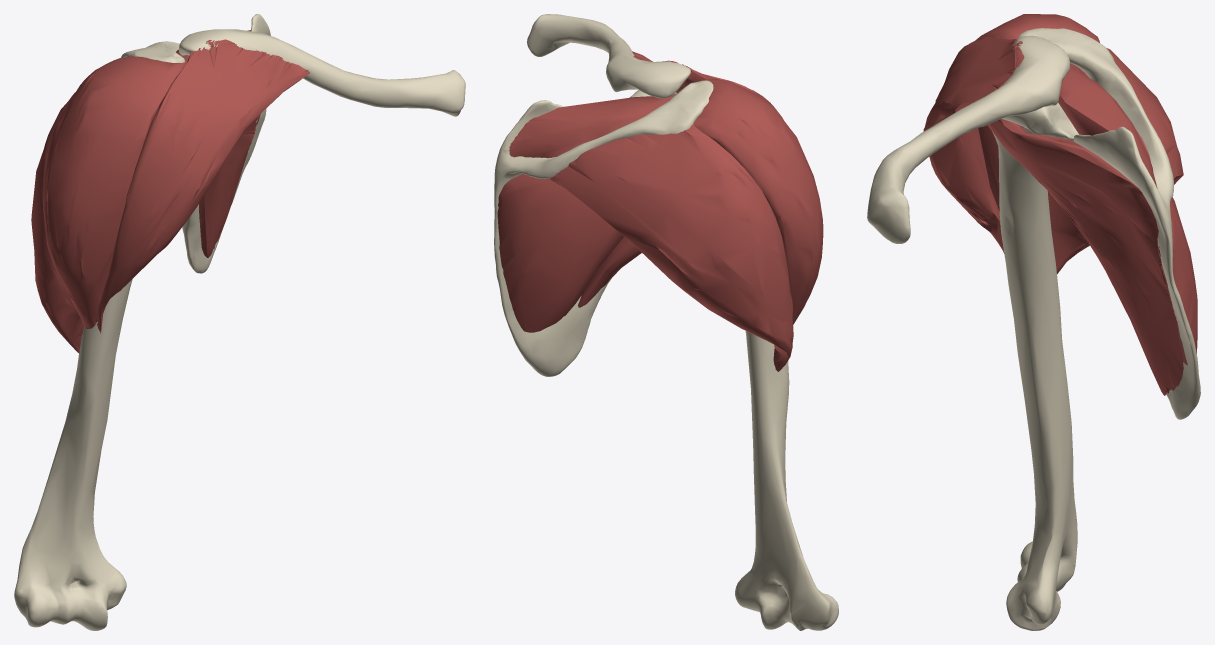
The model's file is shoulder-balanced.glb.
3 views of the same model, side by side, from view 1: azimuth 30°, elevation 25°; view 2: azimuth 150°, elevation 25°; view 3: azimuth 270°, elevation 25° (orthographic). The views are drawn at different scales.
Visible parts, largest first — view 1: muscle.deltoid, bone.humerus, bone.clavicle, muscle.subscapularis, bone.scapula; view 2: muscle.deltoid, bone.humerus, muscle.infraspinatus, bone.scapula, bone.clavicle, muscle.supraspinatus, muscle.teres-minor; view 3: bone.humerus, muscle.subscapularis, muscle.deltoid, bone.scapula, bone.clavicle, muscle.supraspinatus, muscle.infraspinatus.
Part boxes in pixels (x1,y1,x2,y2): muscle.deltoid: [31, 39, 309, 353]; bone.humerus: [14, 279, 132, 630]; bone.clavicle: [178, 29, 465, 116]; muscle.subscapularis: [199, 114, 260, 257]; bone.scapula: [121, 14, 270, 273]; muscle.deltoid: [549, 51, 823, 371]; bone.humerus: [735, 331, 838, 630]; muscle.infraspinatus: [497, 174, 623, 332]; bone.scapula: [494, 80, 713, 376]; bone.clavicle: [527, 14, 690, 98]; muscle.supraspinatus: [509, 94, 675, 158]; muscle.teres-minor: [578, 236, 641, 307]; bone.humerus: [992, 132, 1077, 630]; muscle.subscapularis: [987, 119, 1183, 395]; muscle.deltoid: [923, 14, 1183, 274]; bone.scapula: [1002, 28, 1200, 419]; bone.clavicle: [867, 35, 1070, 243]; muscle.supraspinatus: [1058, 63, 1157, 188]; muscle.infraspinatus: [1072, 64, 1197, 365].
Bounding box in the file's own units: 0.2312 × 0.3262 × 0.152.
